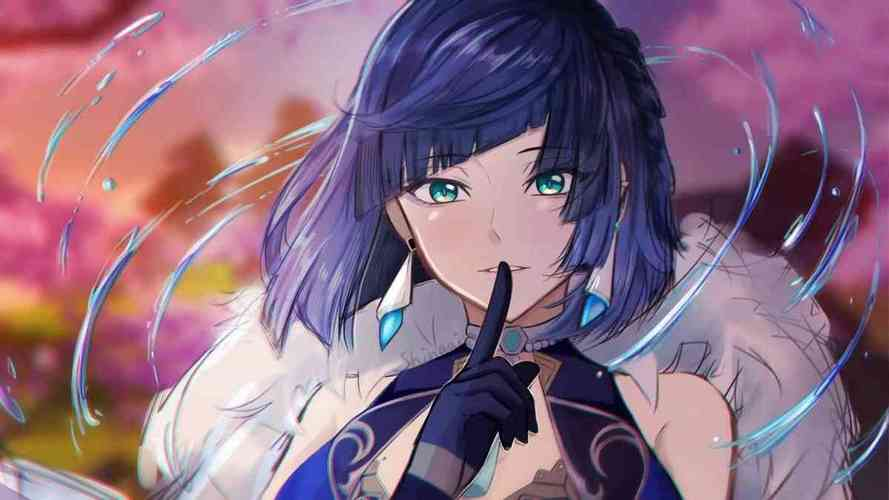夜兰: (259, 2, 744, 497)
